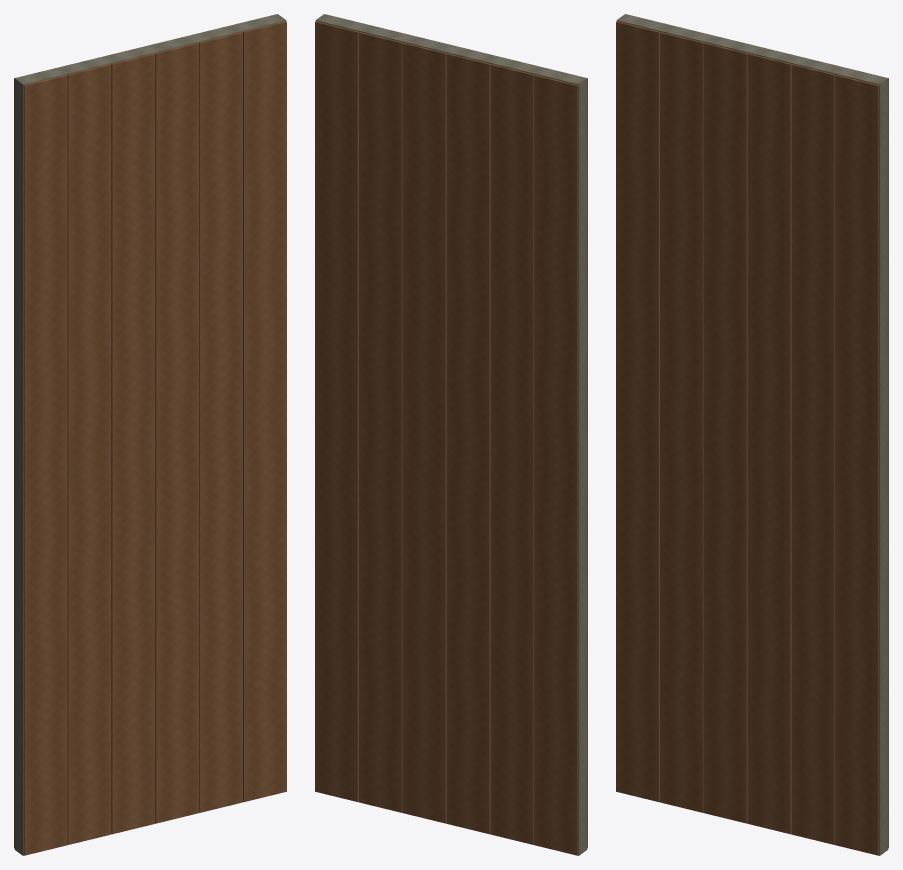
File: MRP_Wall_Wood_1m.fbx
3 renders of one model, left to right at view 1: azimuth 30°, elevation 25°; view 2: azimuth 150°, elevation 25°; view 3: azimuth 330°, elevation 25°, orthographic.
Visible parts, largest first — view 1: Body; view 2: Body; view 3: Body.
Part boxes in pixels (left/top/right/bottom): Body: left=14, top=14, right=286, bottom=855; Body: left=315, top=14, right=587, bottom=855; Body: left=616, top=14, right=888, bottom=855.
Size of the model in its own units: 1 by 2.8 by 0.07.
